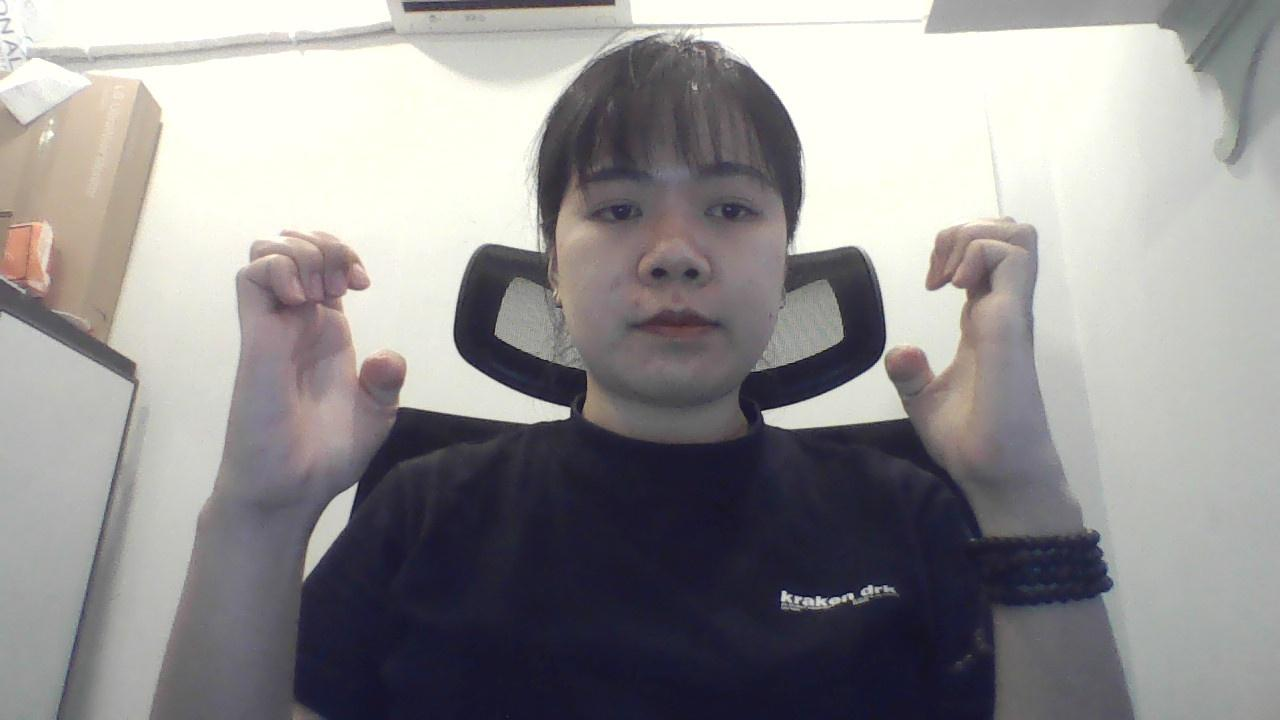E: (182, 214, 421, 558), (892, 197, 1061, 537)
